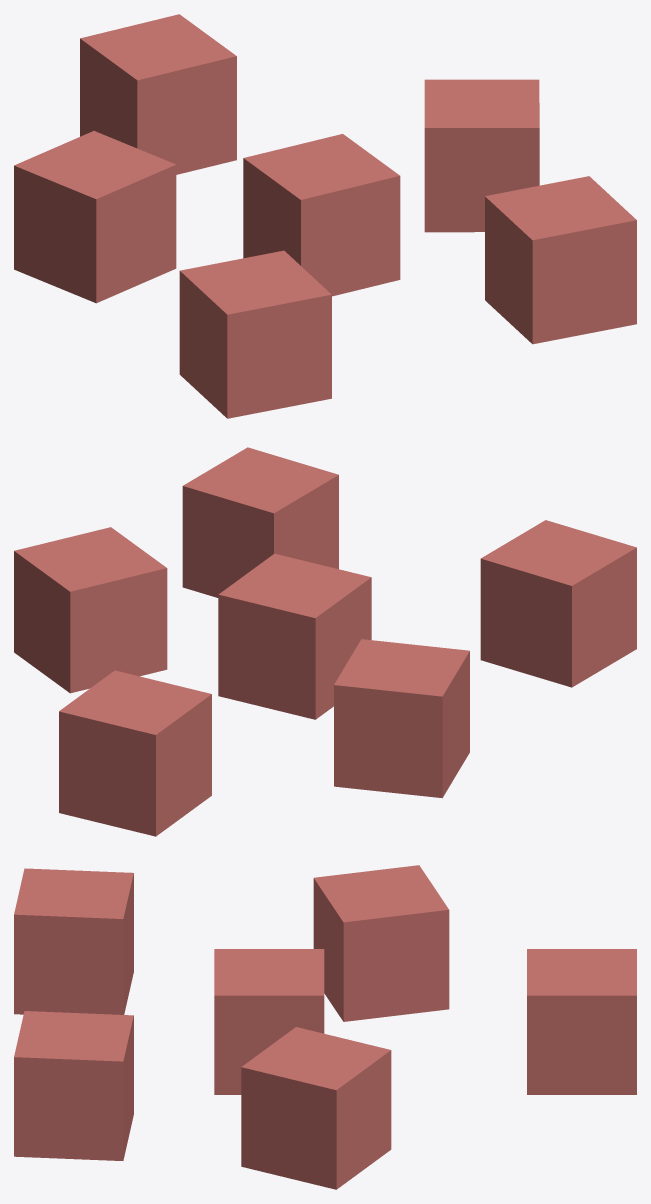
The model's file is raw_meat_C.glb.
3 views of the same model, one above another, from view 1: azimuth 30°, elevation 25°; view 2: azimuth 150°, elevation 25°; view 3: azimuth 270°, elevation 25° (orthographic). The views are drawn at different scales.
Parts seen in each view (by area): view 1: Cube.002, Cube.003, Cube.004, Cube, Cube.001, Cube.005; view 2: Cube.003, Cube.001, Cube.005, Cube, Cube.002, Cube.004; view 3: Cube.005, Cube.002, Cube.004, Cube.003, Cube.001, Cube.
Part boxes in pixels (bbox=[...]): Cube.002: bbox=[14, 131, 176, 303]; Cube.003: bbox=[179, 250, 331, 418]; Cube.004: bbox=[485, 176, 636, 344]; Cube: bbox=[243, 134, 400, 296]; Cube.001: bbox=[80, 14, 236, 174]; Cube.005: bbox=[424, 79, 539, 232]; Cube.003: bbox=[480, 520, 636, 687]; Cube.001: bbox=[59, 670, 211, 836]; Cube.005: bbox=[14, 527, 167, 693]; Cube: bbox=[218, 553, 371, 719]; Cube.002: bbox=[334, 639, 469, 798]; Cube.004: bbox=[182, 447, 338, 597]; Cube.005: bbox=[241, 1027, 391, 1189]; Cube.002: bbox=[313, 865, 449, 1021]; Cube.004: bbox=[14, 1011, 133, 1160]; Cube.003: bbox=[14, 868, 133, 1014]; Cube.001: bbox=[527, 949, 636, 1094]; Cube: bbox=[214, 949, 324, 1094].
Bounding box in the file's own units: 0.108 × 0.0223 × 0.1263.
